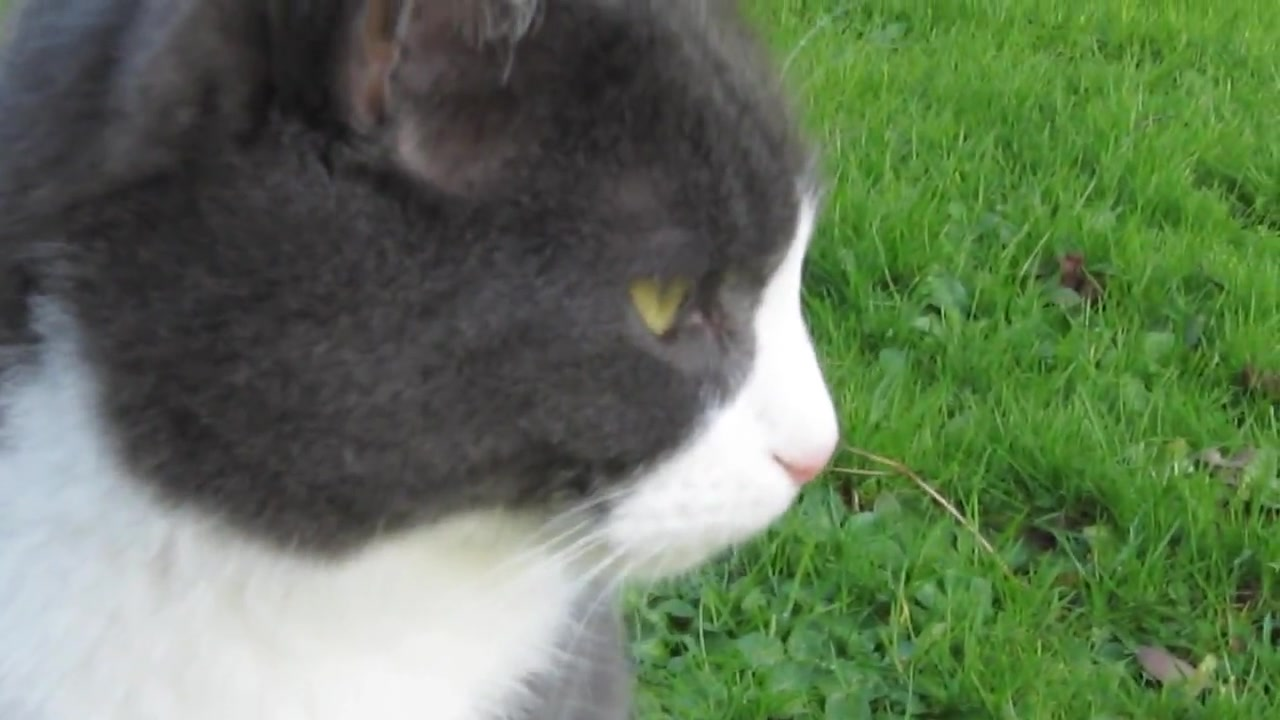cat: (1, 4, 848, 719)
